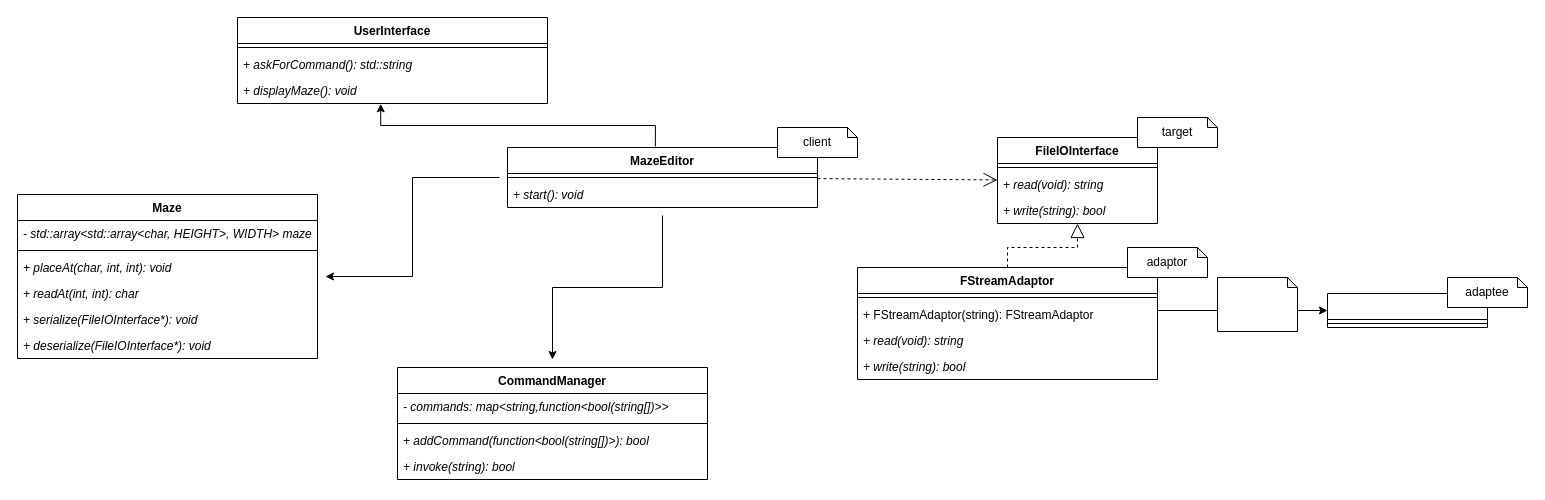
This 1545x500 diagram has some shape labels left out. The centre of each missing label's shape, as x and y in pixels:
"FStream" belongs at pixel 1407 310.
"is that the right arrow type?" belongs at pixel 1257 304.
